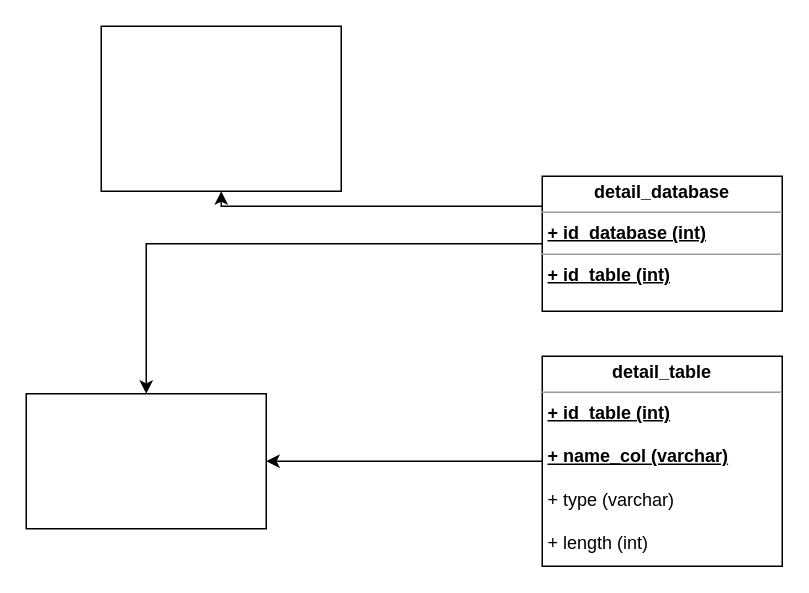
The diagram is 809 pixels wide and 593 high, and some of its shapes have lost their labels. The shapes that lost their labels are listed below. From the top down, each one's centre as x and y in pixels, then its label:
point (220, 108): list_database + id_database (int) + name_database (varchar) + ngay_tao (int)
point (145, 460): list_table + id_table (int) + name_table (varchar)
